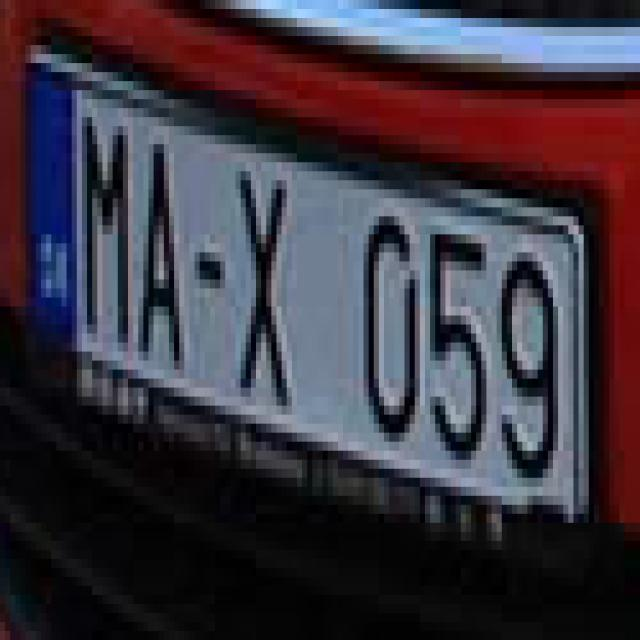Autre: (27, 56, 584, 531)
